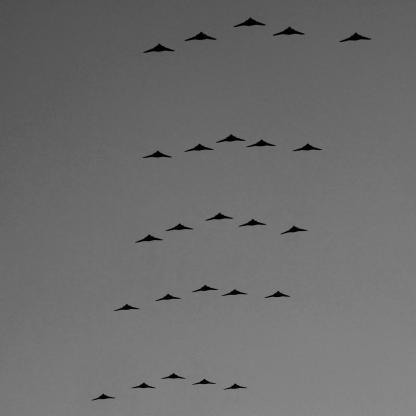F117: (235, 18, 268, 29), (340, 33, 373, 43), (274, 27, 307, 37), (185, 33, 218, 43), (144, 44, 176, 54), (281, 226, 309, 236), (216, 135, 247, 144), (293, 144, 323, 153), (247, 140, 277, 149), (185, 145, 215, 154), (239, 219, 267, 228), (136, 235, 164, 244), (143, 152, 173, 160), (206, 214, 235, 222), (166, 224, 195, 232), (193, 286, 220, 294), (92, 394, 117, 402), (265, 292, 292, 299), (222, 290, 249, 297), (156, 295, 183, 302), (115, 305, 141, 312), (224, 384, 249, 391), (193, 379, 218, 386), (132, 383, 157, 390), (162, 374, 187, 380)
